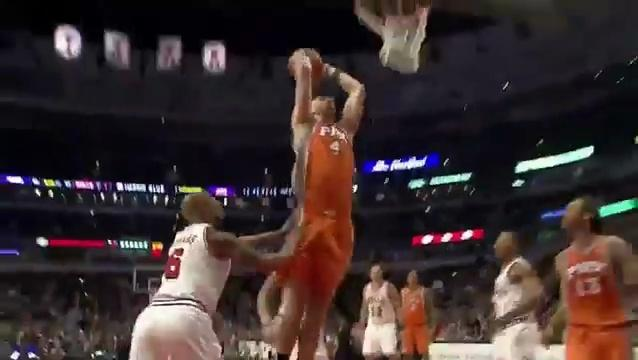Ball: (304, 49, 322, 79)
Basket: (354, 0, 447, 73)
Person: (265, 49, 367, 360), (117, 187, 252, 360), (544, 198, 638, 360), (479, 230, 547, 360), (360, 263, 404, 360), (398, 264, 438, 360)
